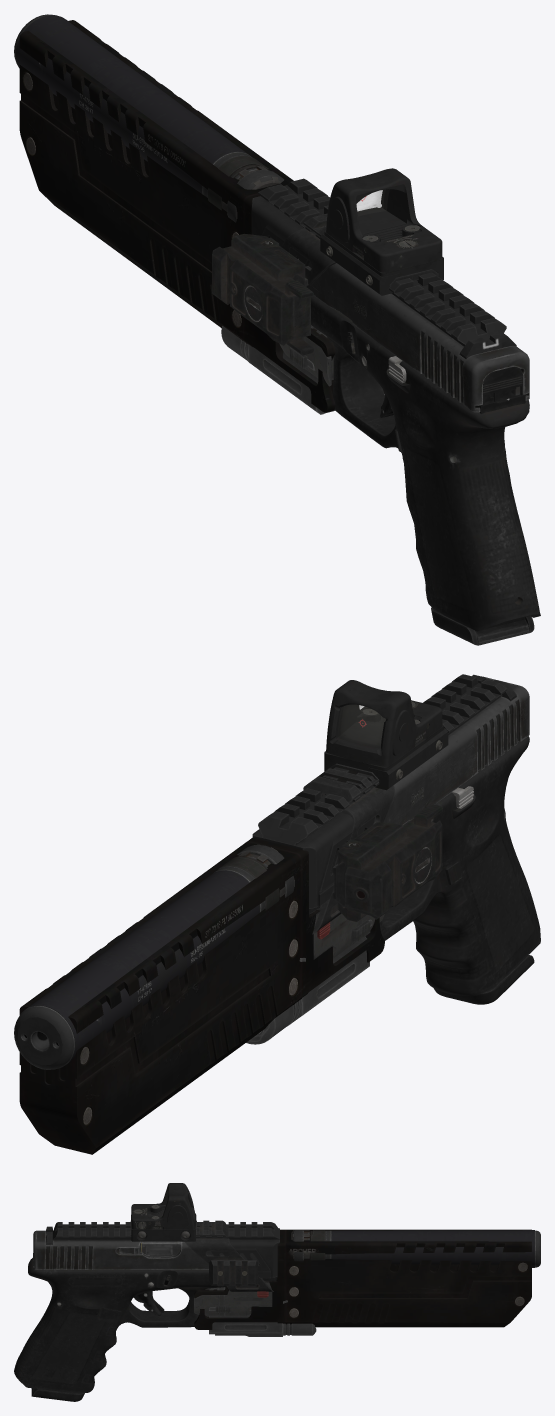
Rendered from pistol.glb.
The picture shows the model from 3 angles, top to bottom: view 1: azimuth 30°, elevation 25°; view 2: azimuth 150°, elevation 25°; view 3: azimuth 270°, elevation 25°; orthographic projection. The views are drawn at different scales.
Parts seen in each view (by area): view 1: att_can_box, frame, slide, att_can_long, att_reddot, att_laser, att_cover, att_light_long, att_clamp, magazine, att_can_short, att_light_compact; view 2: att_can_box, frame, att_can_long, att_reddot, att_cover, att_laser, slide, att_clamp, att_light_long, att_light_compact, magazine, att_can_short; view 3: att_can_box, frame, att_can_long, slide, att_cover, att_reddot, att_clamp, att_light_long, att_light_compact, barrel, magazine, att_can_short (+1 smaller).
Part boxes in pixels (<box>): att_can_box: <box>19,20,384,412</box>; frame: <box>311,296,540,631</box>; slide: <box>280,245,529,412</box>; att_can_long: <box>14,14,284,222</box>; att_reddot: <box>320,168,443,295</box>; att_laser: <box>212,234,313,355</box>; att_cover: <box>252,178,506,346</box>; att_light_long: <box>221,326,335,414</box>; att_clamp: <box>281,213,438,288</box>; magazine: <box>431,607,534,645</box>; att_can_short: <box>207,156,281,218</box>; att_light_compact: <box>279,325,333,386</box>; att_can_box: <box>19,837,384,1154</box>; frame: <box>309,736,540,996</box>; att_can_long: <box>14,845,294,1069</box>; att_reddot: <box>324,680,448,790</box>; att_cover: <box>252,674,507,908</box>; att_laser: <box>337,804,442,921</box>; slide: <box>374,674,529,825</box>; att_clamp: <box>303,763,394,934</box>; att_light_long: <box>246,919,372,1044</box>; att_light_compact: <box>310,910,384,959</box>; magazine: <box>434,955,534,1004</box>; att_can_short: <box>218,844,294,910</box>; att_can_box: <box>194,1229,531,1329</box>; frame: <box>14,1253,277,1393</box>; att_can_long: <box>292,1230,540,1267</box>; slide: <box>33,1226,259,1269</box>; att_cover: <box>53,1222,279,1278</box>; att_reddot: <box>131,1183,196,1241</box>; att_clamp: <box>130,1220,273,1291</box>; att_light_long: <box>209,1300,316,1336</box>; att_light_compact: <box>194,1281,272,1316</box>; barrel: <box>141,1241,181,1255</box>; magazine: <box>31,1388,84,1401</box>; att_can_short: <box>291,1230,325,1260</box>.
Bounding box in the file's own units: 0.0606 × 0.1582 × 0.3683.
Materials: 17 (16 with a texture image).
